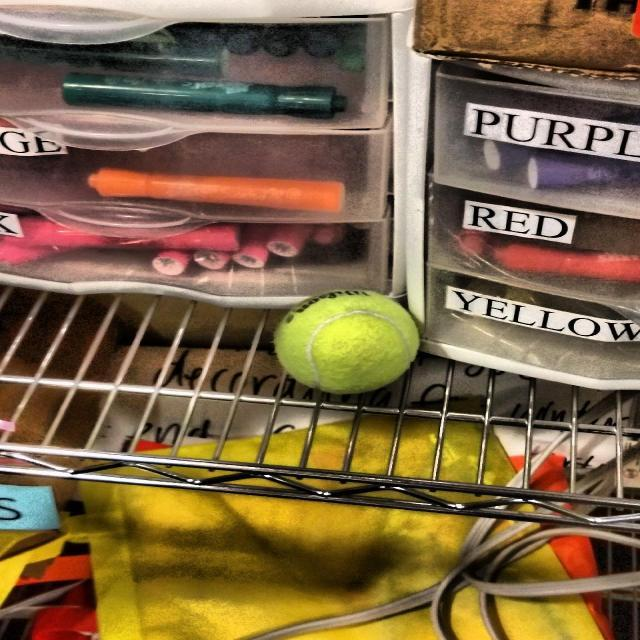tennis-ball: (271, 281, 431, 400)
